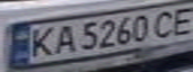0: (130, 11, 157, 43)
2: (96, 17, 121, 50)
5: (75, 19, 100, 52)
6: (115, 15, 139, 46)
A: (51, 21, 78, 55)
C: (148, 7, 184, 38)
E: (166, 3, 193, 36)
K: (24, 25, 60, 58)
